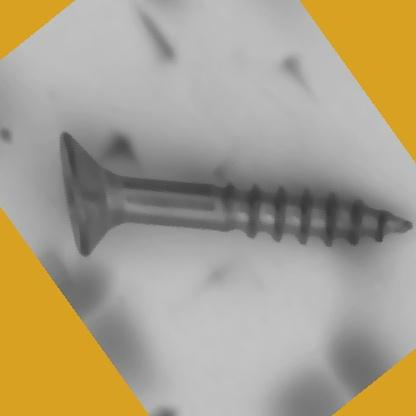metal: (60, 134, 414, 260)
